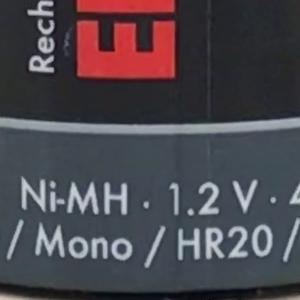keyword: (169, 215, 275, 269), (12, 173, 131, 221)
